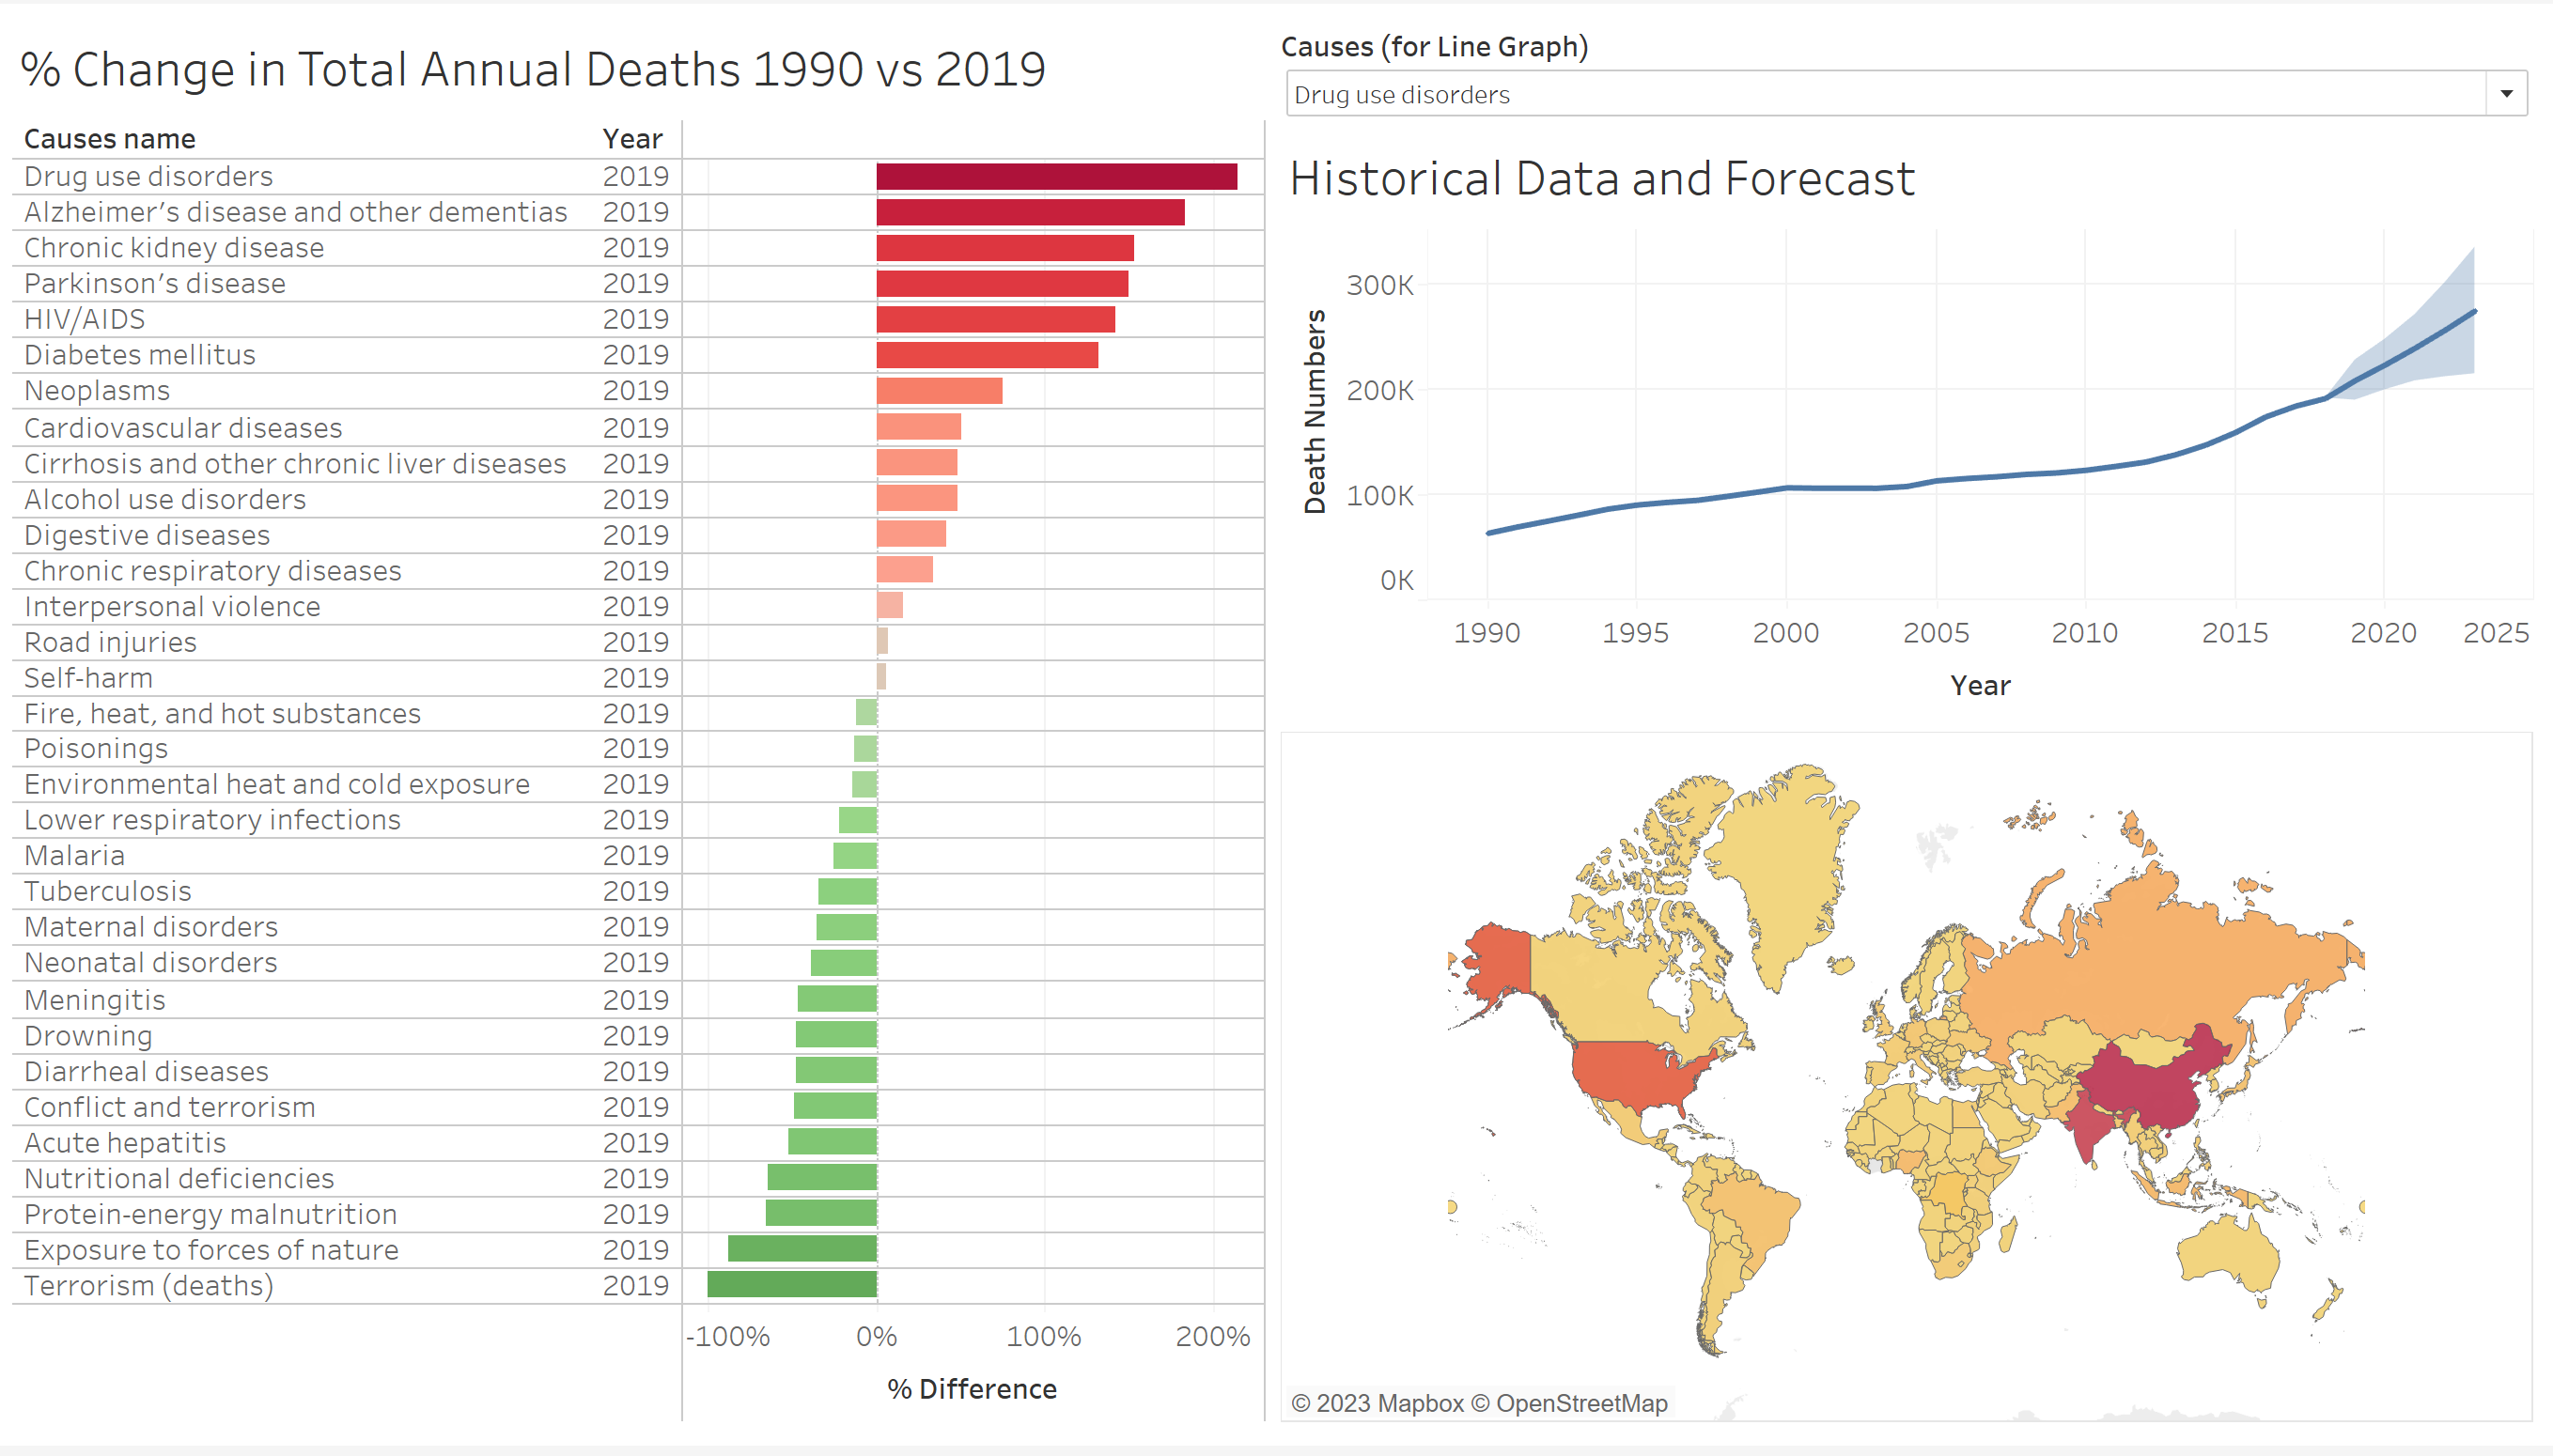

Layout of this report page (visuals, bound fields, positions):
{"tool":"tableau","page":{"name":"% Change in Total Annual Death","canvas":[1366,768],"ordinal":0},"visuals":[{"type":"worksheet","title":"Global 1990 - 2019 % Incr/Decr","mark":"Automatic","rows":["Causes name","Year"],"cols":["Death Numbers"],"box":[8,8,675,752]},{"type":"filter","title":"Death Forecast","param":"[federated.1glntpk1een2e012c92v809trroc].[none:Causes name:nk]","box":[683,8,675,58]},{"type":"worksheet","title":"Death Forecast","mark":"Automatic","rows":["Death Numbers"],"cols":["Year"],"box":[683,66,675,318]},{"type":"worksheet","title":"World Map","mark":"Multipolygon","box":[683,384,675,376]}]}

Visuals, with their boxes in screenshot pixels (x1, y1, x2, y2), scaled from the page's 1366x768 canvas onto the 2553x1456 screenshot:
"Global 1990 - 2019 % Incr/Decr" worksheet: <box>15,15,1276,1441</box>
"Death Forecast" filter: <box>1276,15,2538,125</box>
"Death Forecast" worksheet: <box>1276,125,2538,728</box>
"World Map" worksheet (Multipolygon marks): <box>1276,728,2538,1441</box>
